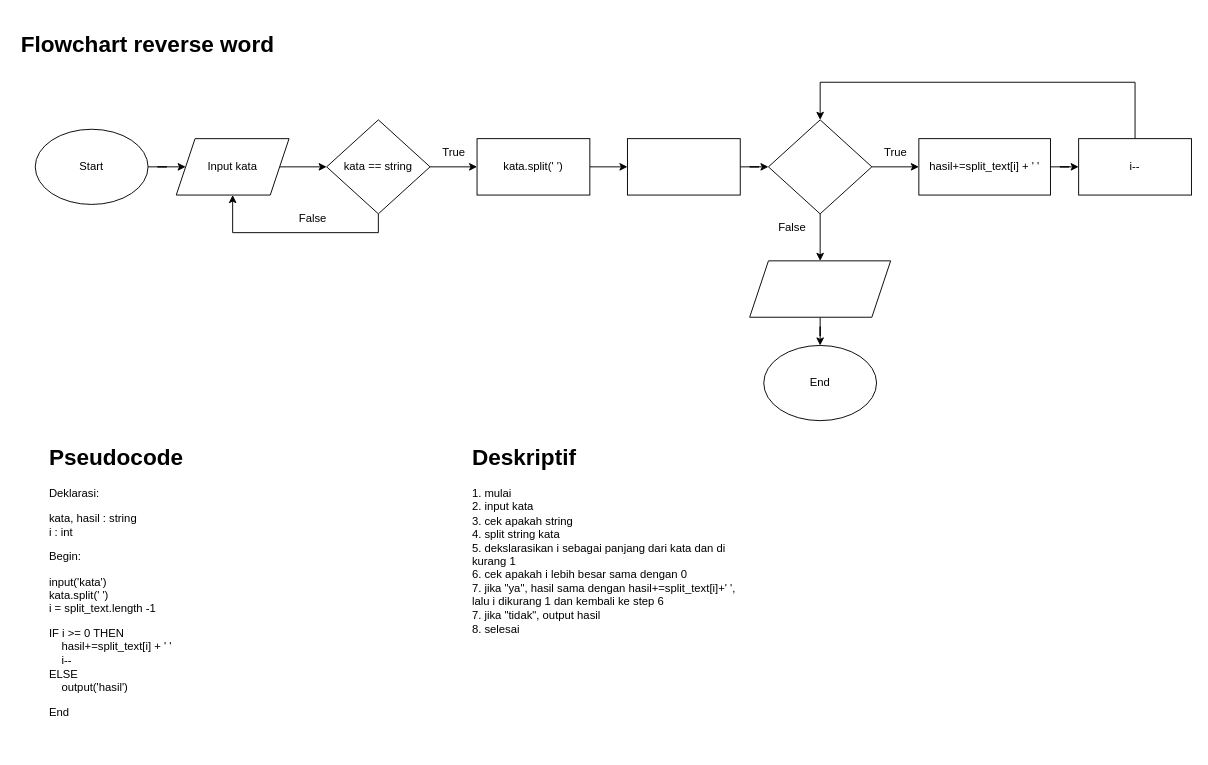
This 1208x765 diagram has some shape labels left out. The shapes that lost their labels are listed below. From the top down, each one's box as (x1, y1, x2, y2) in pixels, then its label:
(627, 138, 740, 195): i = split_text.length -1
(768, 119, 872, 214): i >= 0
(749, 260, 891, 317): hasil
